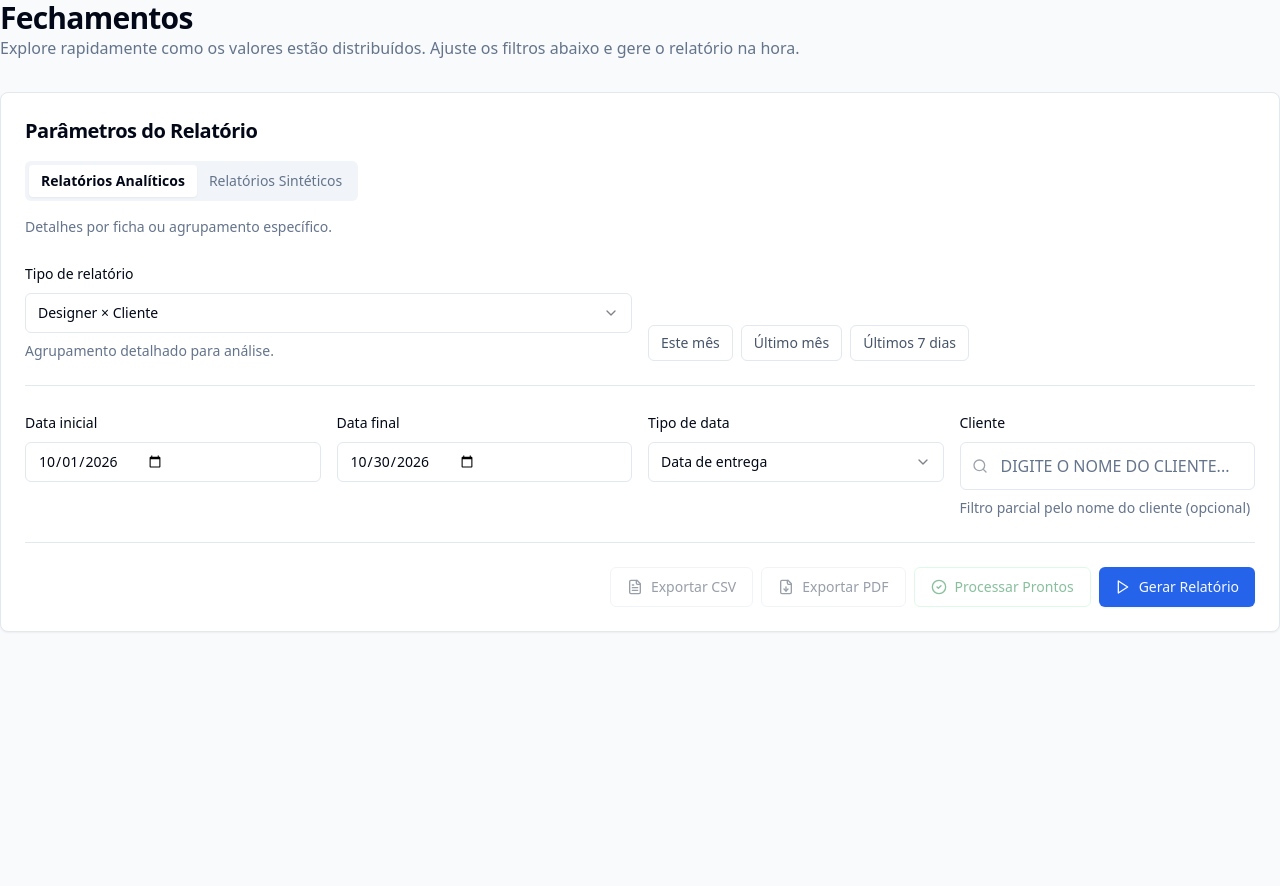
it: FechamentoTable › deve renderizar dados do relatório
Step 1. Type "2026-04-01" into the date field labelled "Data inicial" → (173, 462), box [25,442,320,482]
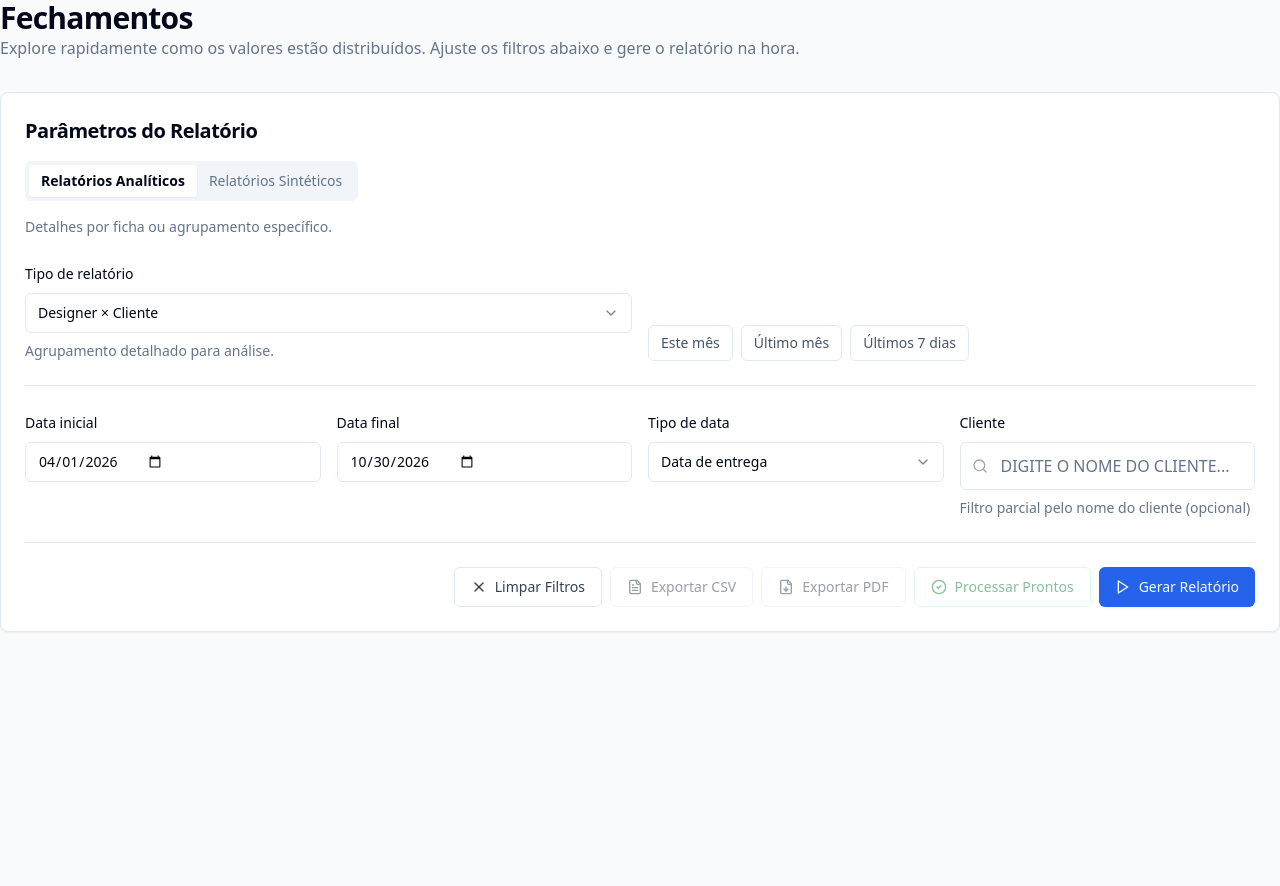
Step 2. Type "2026-04-29" into the date field labelled "Data final" → (484, 462), box [336,442,632,482]
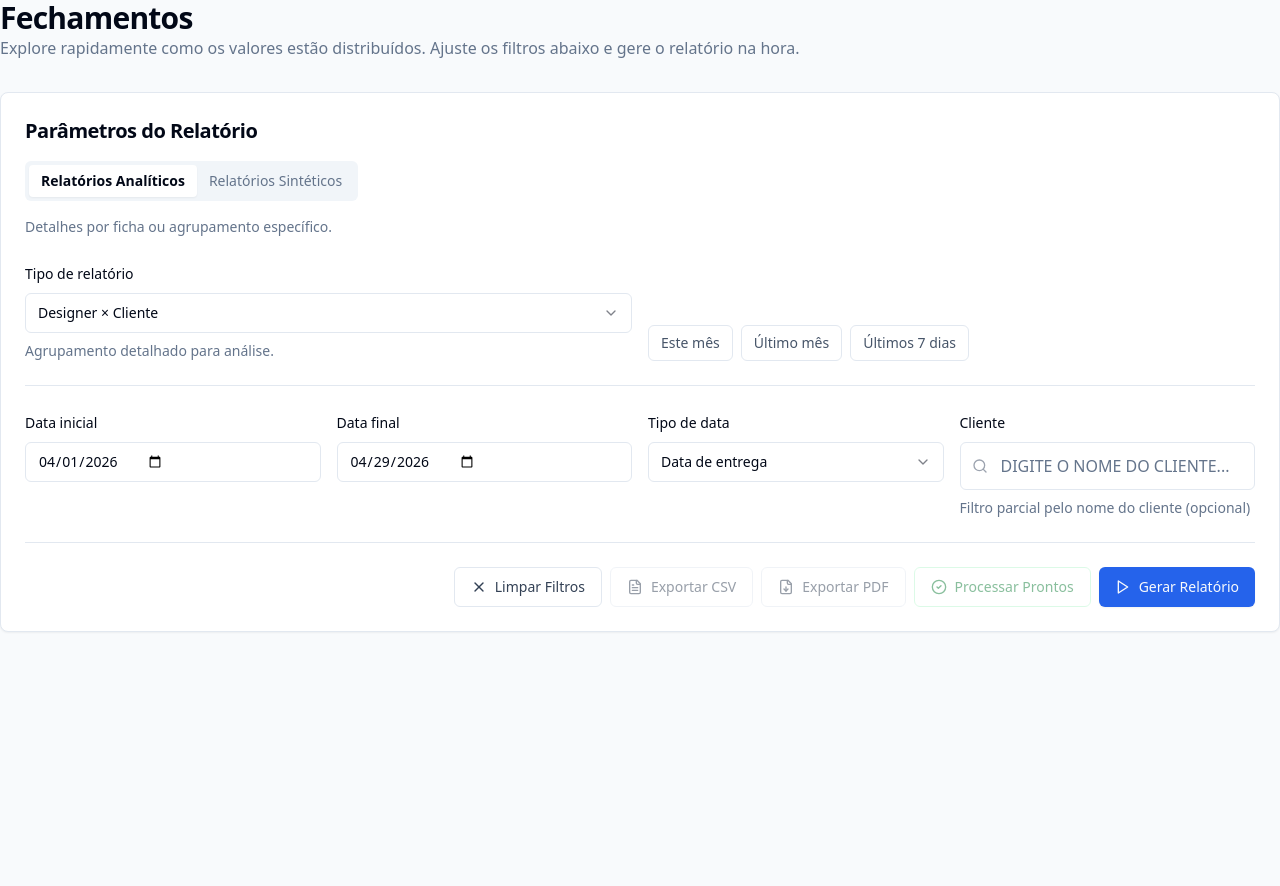
Step 3. Click the button "Gerar Relatório" → (1177, 587), box [1099,567,1255,607]
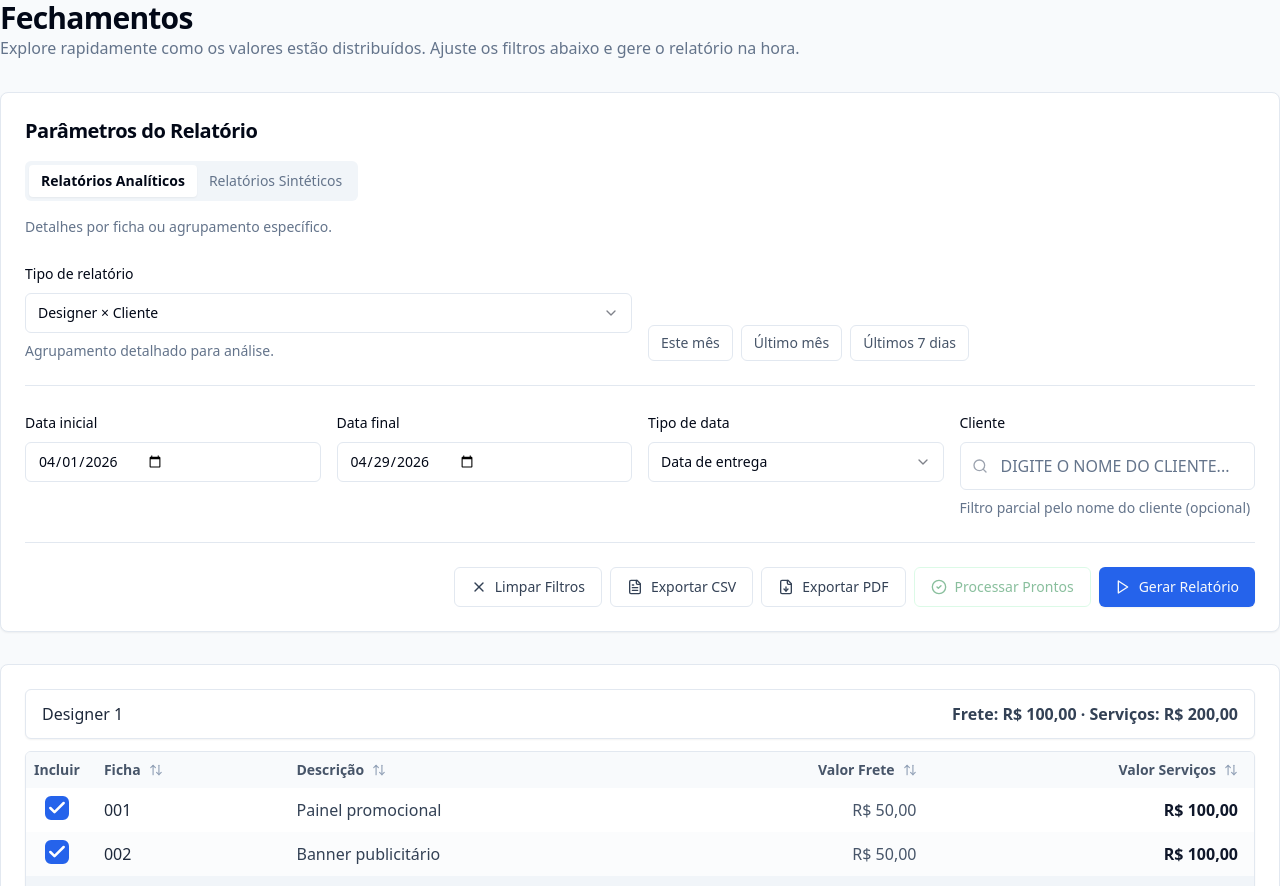
Expected: the text "Designer 1" is shown, [42,702,123,726]
Expected: the text "001" is shown, [88,788,280,832]
